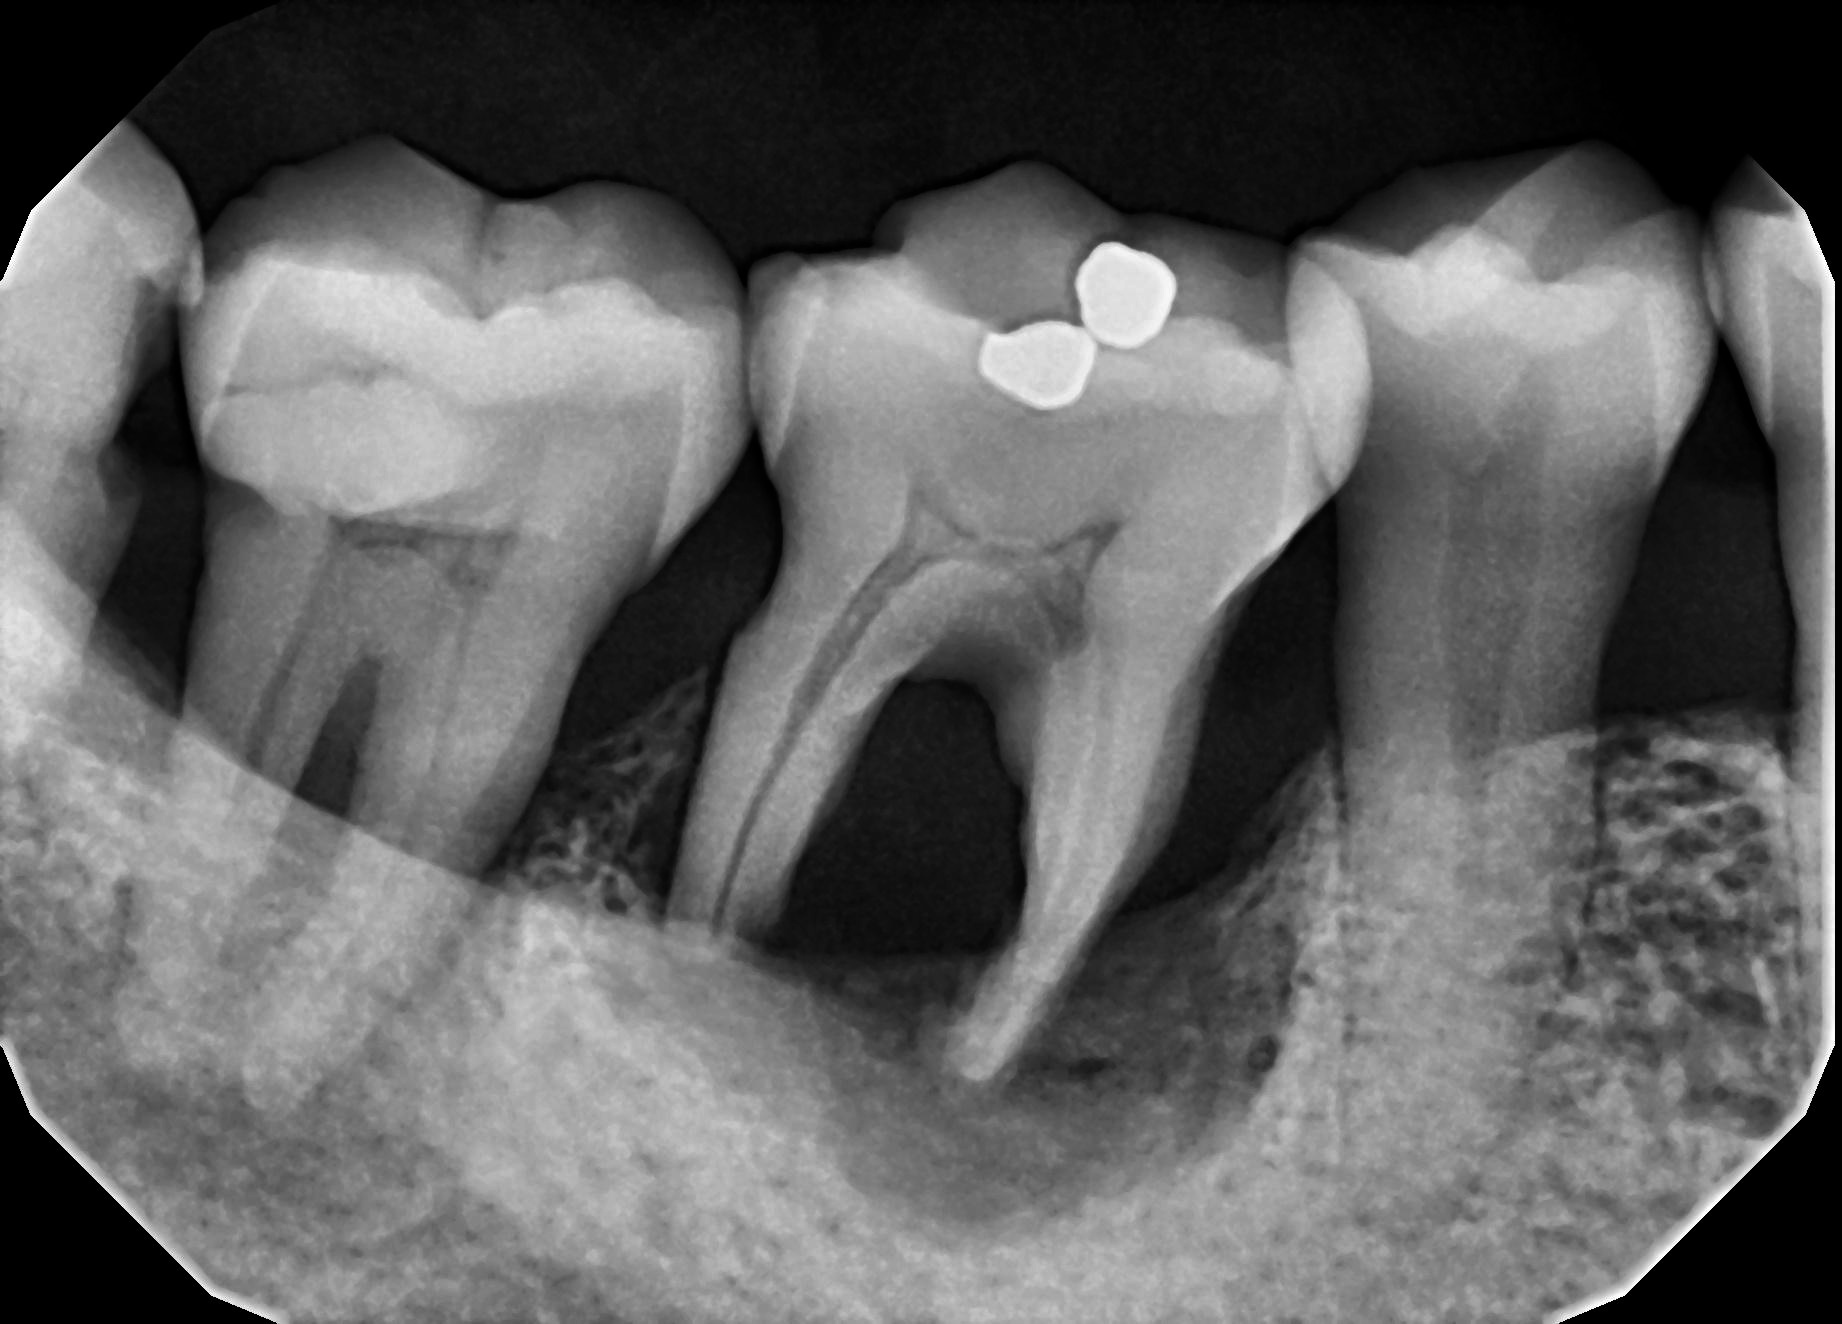Individual Tooth: (659, 156, 1370, 1087), (112, 130, 754, 1125), (1286, 142, 1725, 1258), (1, 124, 199, 822), (1696, 162, 1841, 1052)
